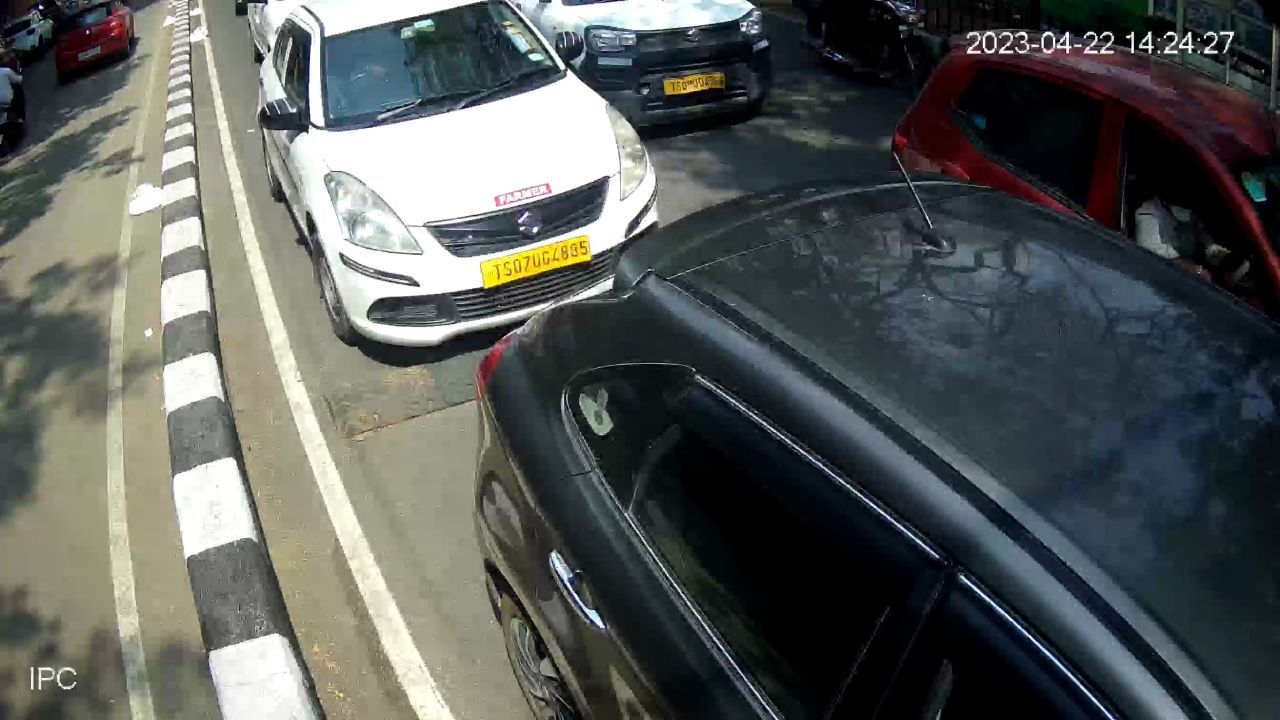license_plate: (477, 226, 595, 293), (657, 64, 734, 103)
